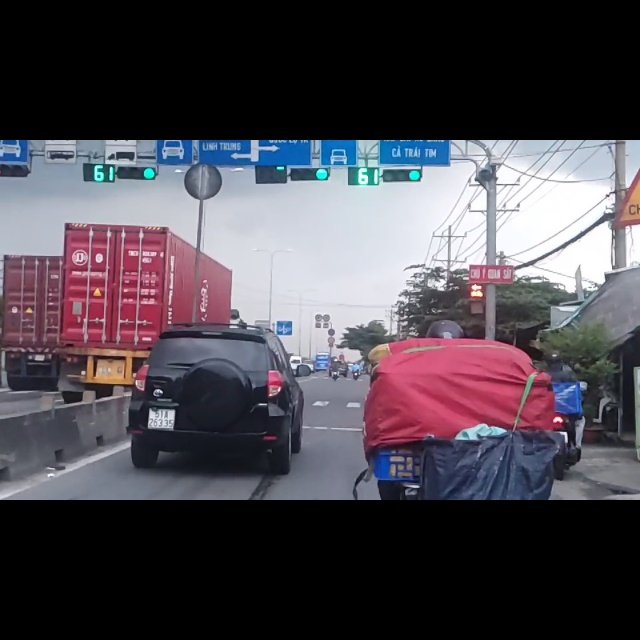bien_nguy_hiem: (614, 8, 640, 159)
